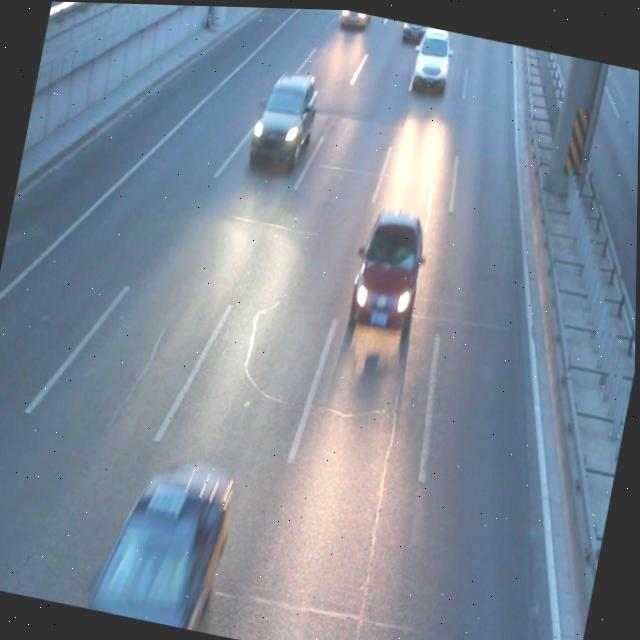car: (92, 450, 238, 632), (345, 202, 432, 339), (248, 64, 321, 167), (409, 22, 453, 86), (400, 19, 431, 42), (339, 8, 369, 29)
